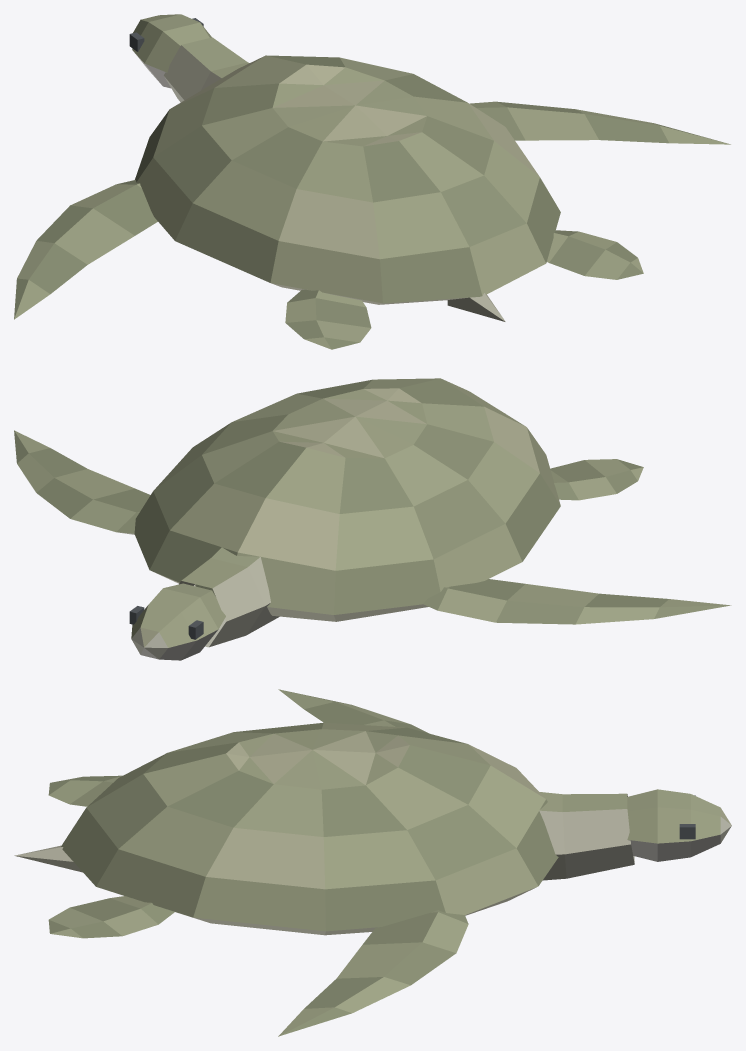
File: turtle.glb
The picture shows the model from 3 angles, top to bottom: view 1: azimuth 30°, elevation 25°; view 2: azimuth 150°, elevation 25°; view 3: azimuth 270°, elevation 25°; orthographic projection.
Visible parts, largest first — view 1: turtle, FlipperFR, FlipperFL, FlipperBR, FlipperBL; view 2: turtle, FlipperFR, FlipperFL, FlipperBR; view 3: turtle, FlipperFL, FlipperBL, FlipperFR, FlipperBR.
Boxes of the visible parts, x1=… form: turtle: x1=129, y1=14, x2=560, y2=321; FlipperFR: x1=14, y1=180, x2=157, y2=319; FlipperFL: x1=470, y1=101, x2=730, y2=144; FlipperBR: x1=285, y1=289, x2=371, y2=349; FlipperBL: x1=547, y1=230, x2=643, y2=279; turtle: x1=129, y1=378, x2=560, y2=660; FlipperFR: x1=423, y1=579, x2=731, y2=624; FlipperFL: x1=14, y1=430, x2=150, y2=534; FlipperBR: x1=550, y1=459, x2=643, y2=500; turtle: x1=14, y1=722, x2=731, y2=935; FlipperFL: x1=278, y1=910, x2=468, y2=1036; FlipperBL: x1=48, y1=896, x2=174, y2=938; FlipperFR: x1=278, y1=689, x2=428, y2=733; FlipperBR: x1=48, y1=775, x2=122, y2=806.
Size of the model in its own units: 1.24 by 0.2175 by 1.08.
